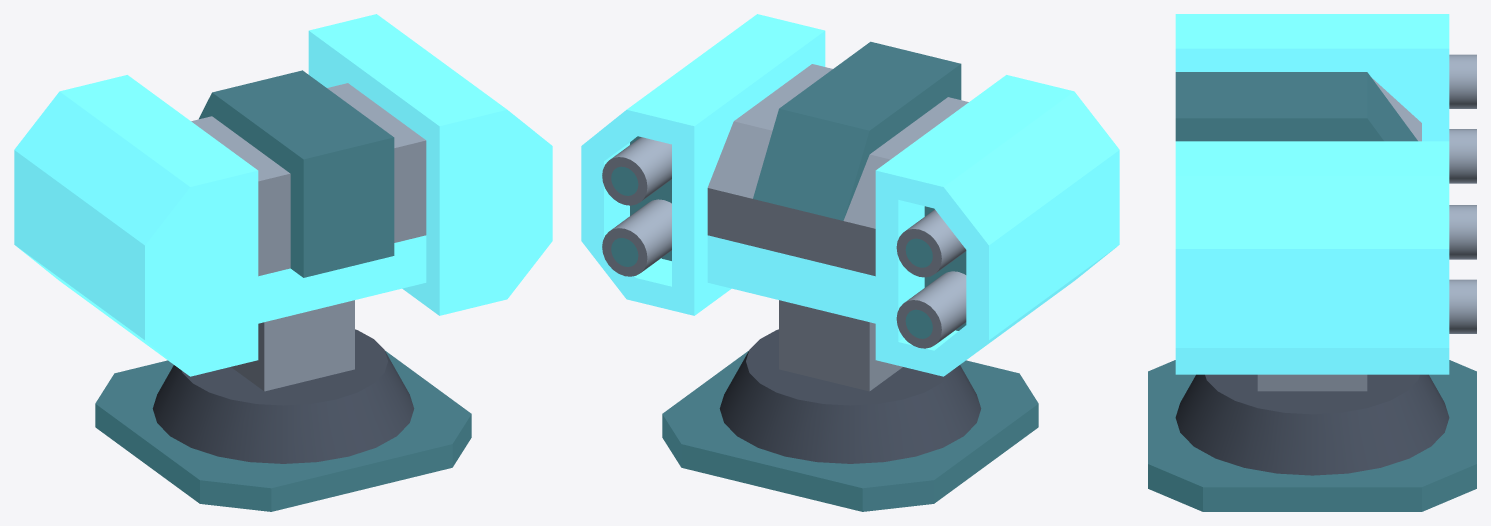
The model's file is turret_double.glb.
3 views of the same model, side by side, from view 1: azimuth 30°, elevation 25°; view 2: azimuth 150°, elevation 25°; view 3: azimuth 270°, elevation 25° (orthographic). The views are drawn at different scales.
Visible parts, largest first — view 1: turret, turret_double; view 2: turret, turret_double; view 3: turret, turret_double.
Boxes of the visible parts, x1,y1,x2,y2 form: turret: (14,14,552,376); turret_double: (95,300,471,511); turret: (581,14,1119,376); turret_double: (662,300,1038,511); turret: (1175,14,1476,374); turret_double: (1148,360,1476,511).
Bounding box in the file's own units: 0.9 × 0.7 × 0.6.
